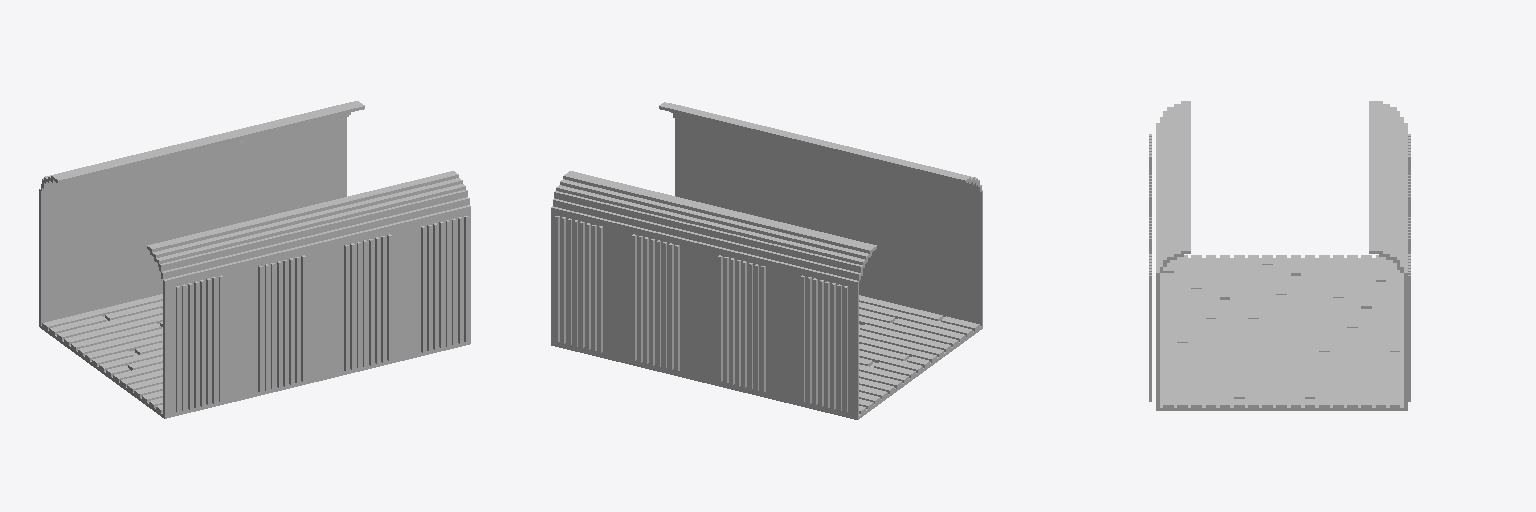
The model's file is Train Car.obj.
3 renders of one model, left to right at view 1: azimuth 30°, elevation 25°; view 2: azimuth 150°, elevation 25°; view 3: azimuth 270°, elevation 25°, orthographic.
Parts seen in each view (by area): view 1: object 1; view 2: object 1; view 3: object 1.
Part boxes in pixels (x1,y1,x2,y2): object 1: (39, 101, 470, 418); object 1: (551, 102, 982, 419); object 1: (1149, 101, 1410, 410).
Size of the model in its own units: 10 by 5 by 7.4.